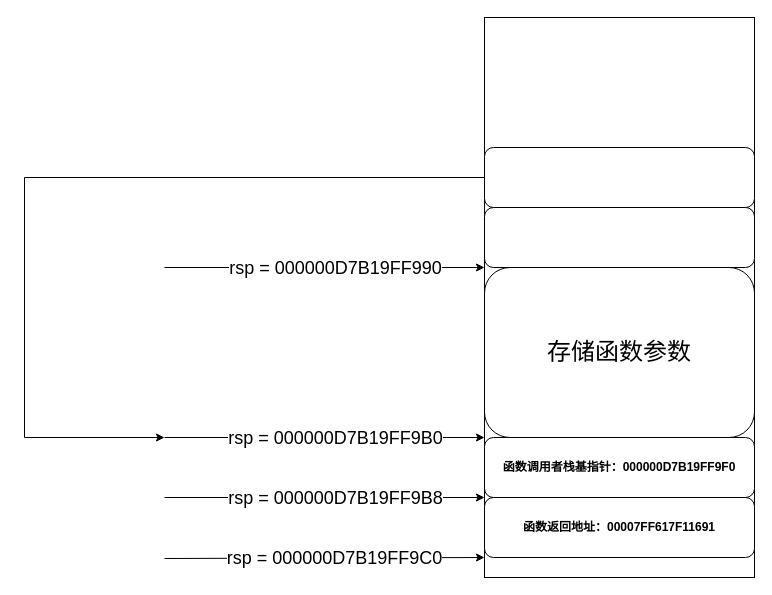
The diagram is 772 pixels wide and 595 high, and some of its shapes have lost their labels. The shapes that lost their labels are listed below. From the top down, each one's centre as x and y in pixels, then its label:
At [619,177]: "函数调用者栈基指针： 000000D7B19FF9B0".
At [619,237]: "函数返回地址： 00007FF617F11663".
